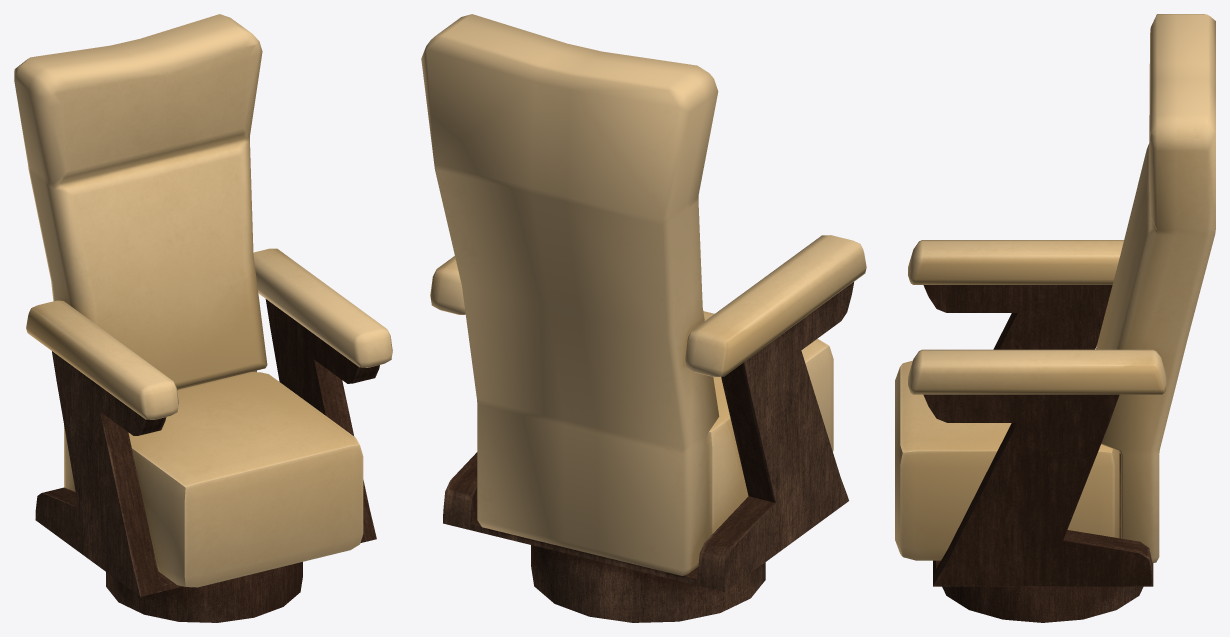
File: SM_Yellow_Chair.fbx
3 renders of one model, left to right at view 1: azimuth 30°, elevation 25°; view 2: azimuth 150°, elevation 25°; view 3: azimuth 270°, elevation 25°, orthographic. The views are drawn at different scales.
Parts seen in each view (by area): view 1: SM_Yellow_Chair; view 2: SM_Yellow_Chair; view 3: SM_Yellow_Chair.
Part boxes in pixels (<box>): SM_Yellow_Chair: <box>14,14,392,622</box>; SM_Yellow_Chair: <box>421,14,866,622</box>; SM_Yellow_Chair: <box>895,14,1215,622</box>.
Size of the model in its own units: 67.68 by 71.25 by 126.
Materials: 1 (1 with a texture image).
